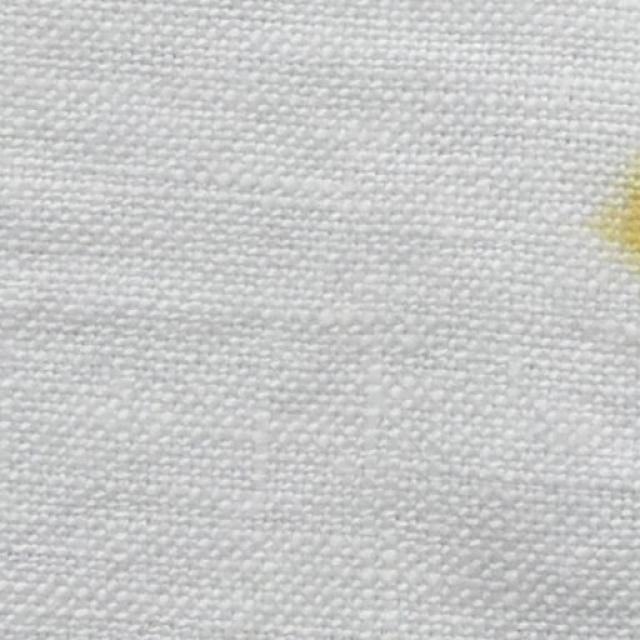Stain: (592, 159, 639, 280)
